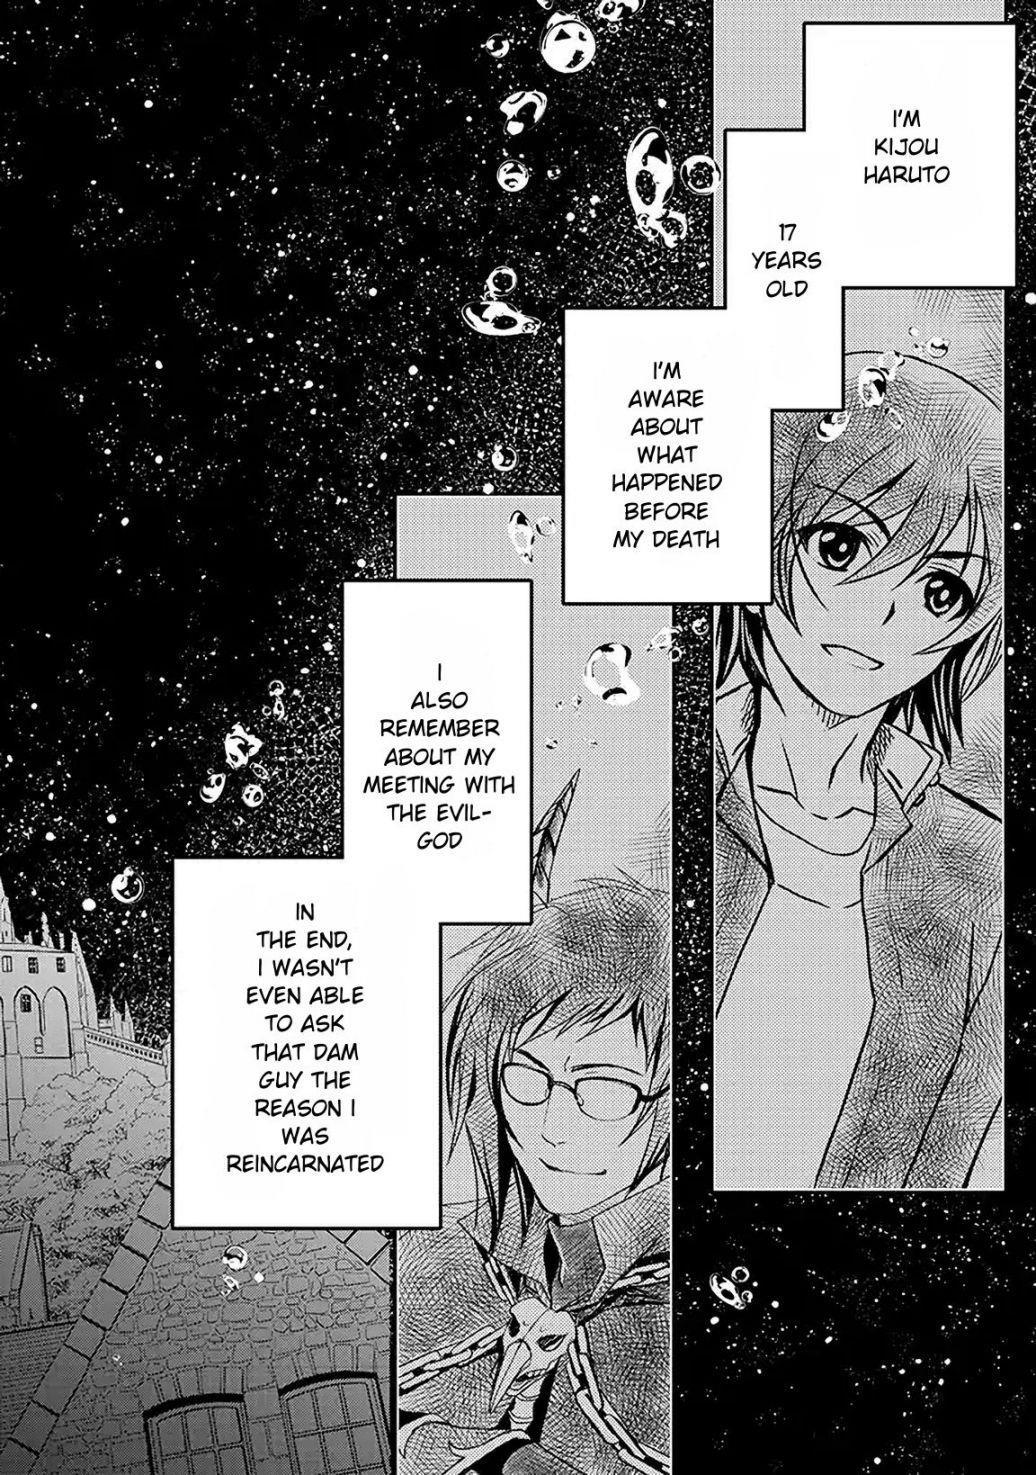Bubble: (170, 897, 446, 1230), (339, 578, 535, 864), (559, 351, 775, 609), (799, 17, 1019, 192), (721, 198, 845, 307)
